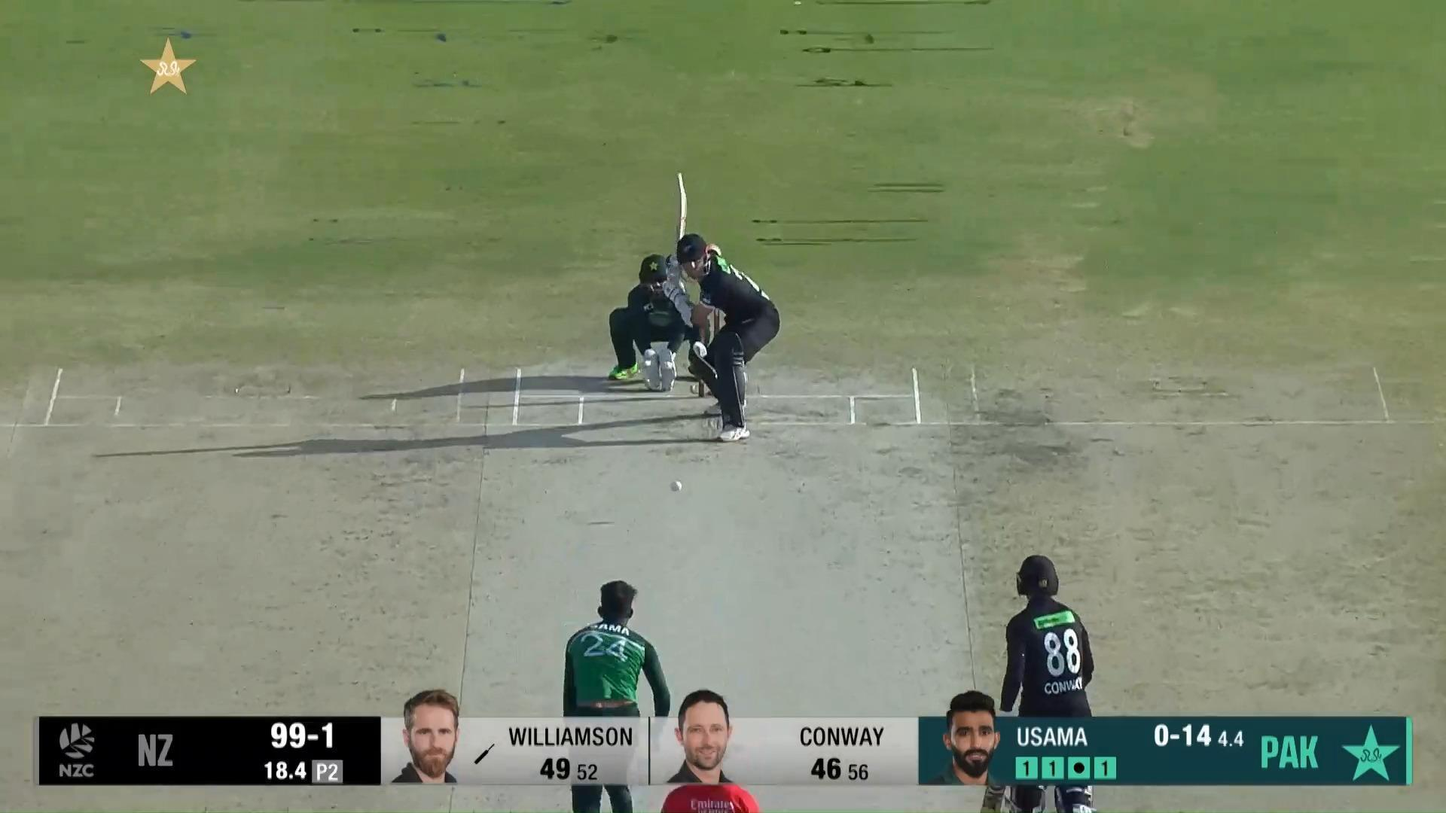BM 1: (676, 172, 780, 443)
BO: (563, 580, 671, 813)
